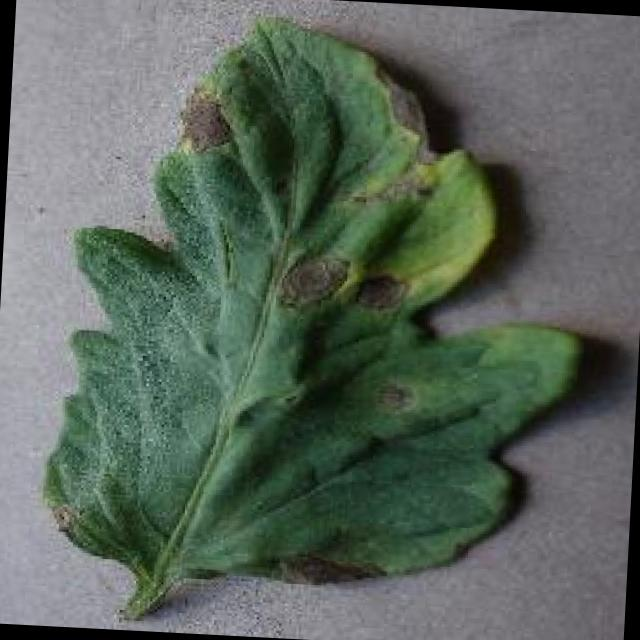Tomato_Early_Blight: (39, 5, 600, 592)
